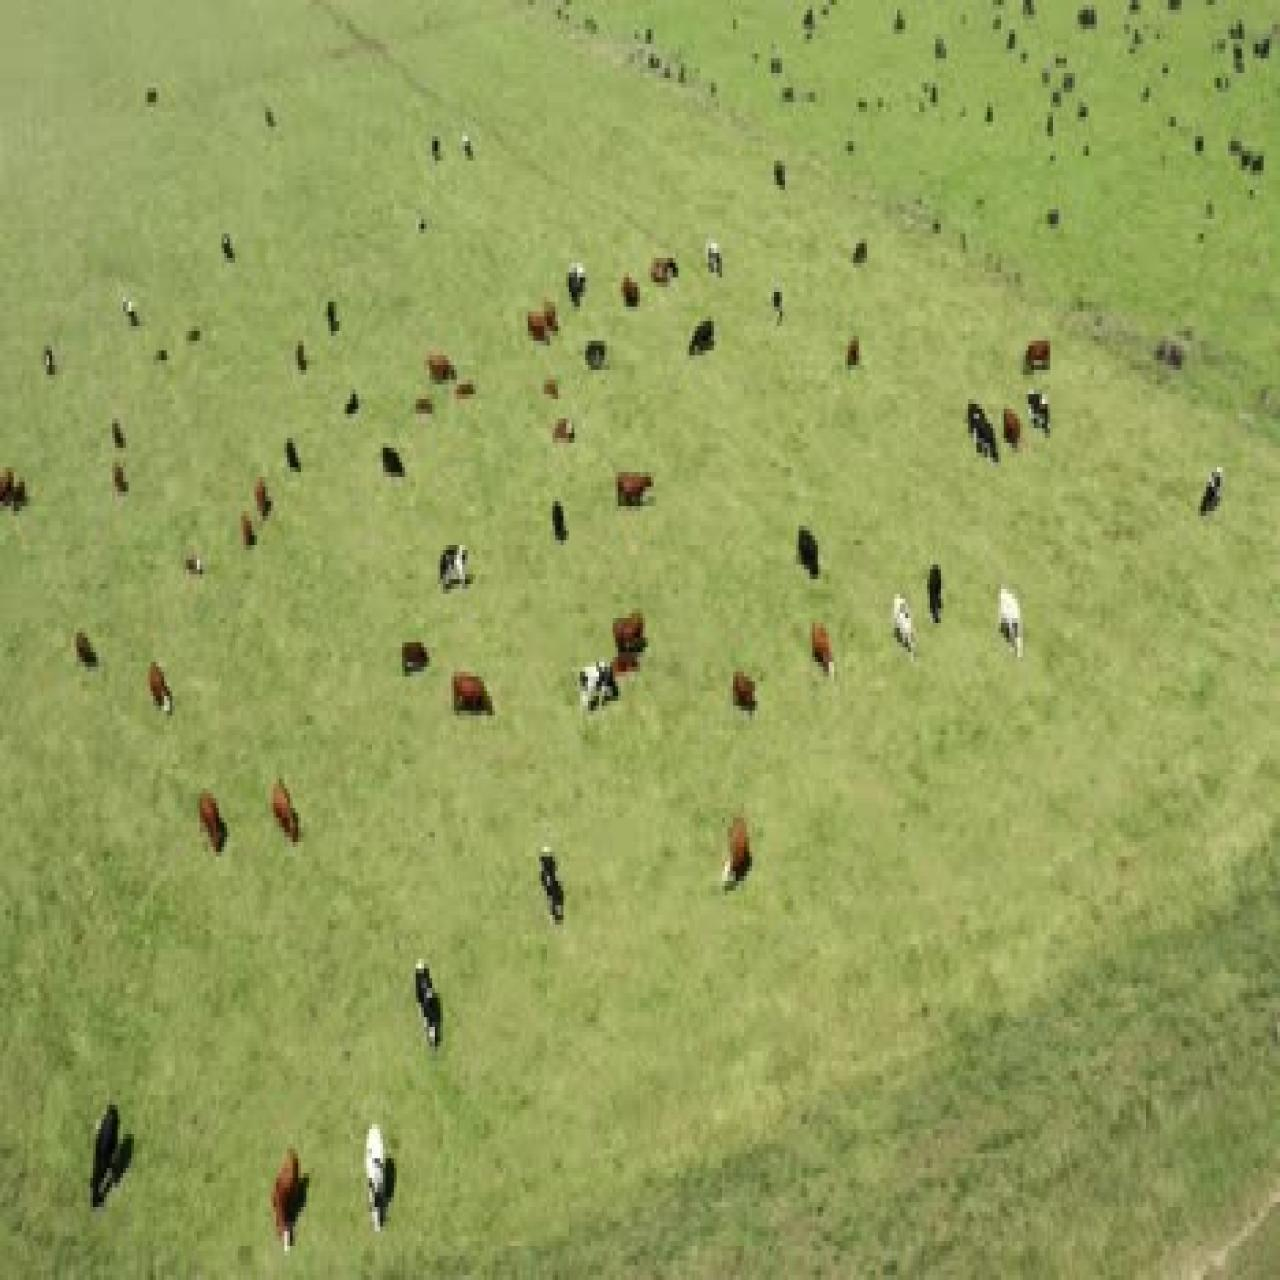cow: (86, 1097, 136, 1212), (362, 1115, 409, 1231), (267, 1144, 315, 1255), (411, 956, 444, 1056), (719, 810, 754, 893), (536, 847, 568, 933), (574, 659, 622, 716), (268, 778, 305, 852), (611, 611, 652, 673), (197, 791, 231, 862), (452, 670, 498, 722), (994, 584, 1023, 661), (143, 660, 176, 723), (525, 299, 565, 347), (615, 470, 658, 513), (792, 525, 822, 586), (968, 400, 995, 461), (811, 619, 837, 681), (436, 544, 470, 591), (728, 670, 757, 724), (1197, 465, 1226, 519), (0, 465, 32, 515), (893, 593, 918, 656), (1021, 335, 1057, 377), (401, 638, 436, 680), (924, 558, 944, 626), (686, 320, 719, 361), (423, 349, 458, 386), (73, 626, 98, 675), (1029, 392, 1054, 440), (998, 404, 1023, 450), (647, 256, 680, 291), (254, 476, 279, 522), (377, 443, 404, 484), (566, 265, 590, 309), (550, 498, 571, 547), (619, 274, 645, 314), (282, 433, 304, 478), (580, 340, 610, 373), (703, 243, 726, 284), (552, 416, 578, 449), (237, 515, 257, 557), (844, 336, 865, 375), (113, 463, 134, 502), (325, 301, 346, 340), (768, 285, 787, 327), (42, 342, 61, 384), (110, 416, 131, 452), (184, 550, 206, 583), (341, 393, 363, 423), (124, 300, 145, 332), (414, 396, 437, 424), (540, 373, 565, 399)
